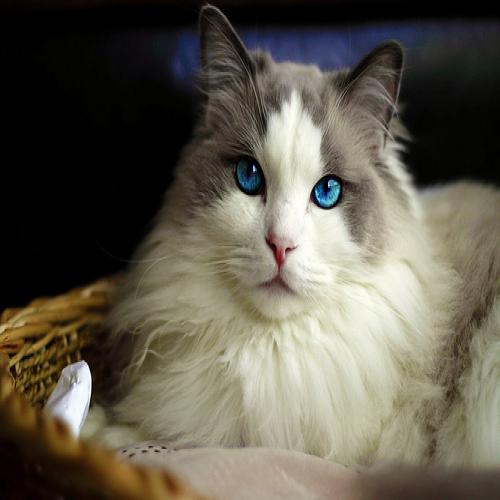ragdoll: (179, 1, 414, 350)
